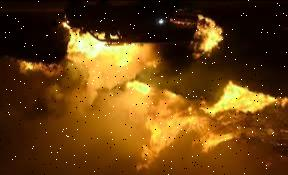fire: (129, 76, 288, 170), (18, 20, 145, 118), (186, 8, 230, 62)
